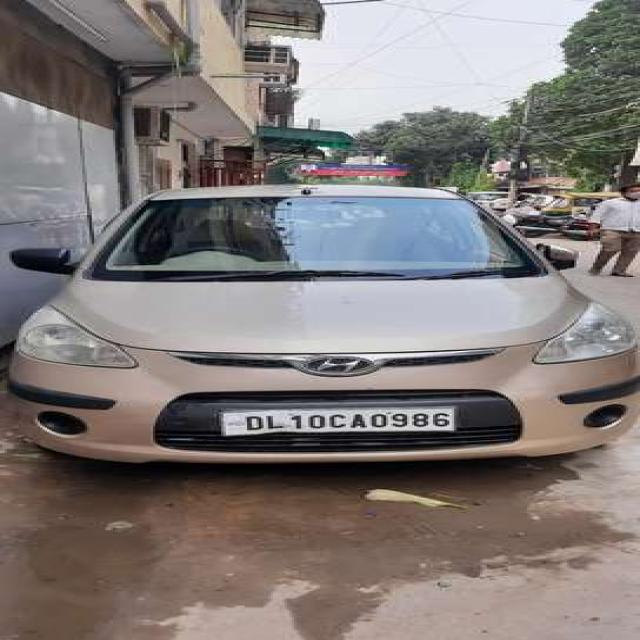licenseplate: (214, 405, 459, 437)
